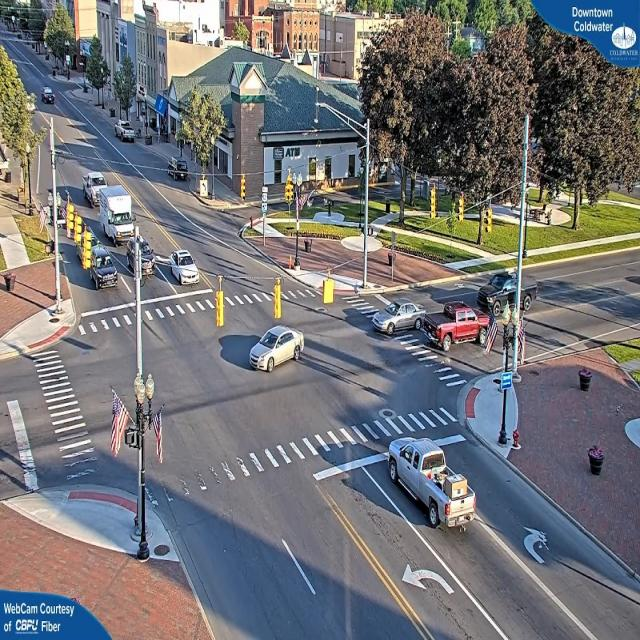car: (385, 439, 476, 538), (424, 301, 489, 350), (246, 326, 301, 374), (478, 273, 536, 314), (372, 298, 422, 336), (166, 251, 200, 287), (91, 248, 117, 292), (128, 237, 154, 280), (165, 157, 189, 180), (116, 123, 136, 143), (42, 89, 56, 105)
truck: (96, 182, 138, 245)
